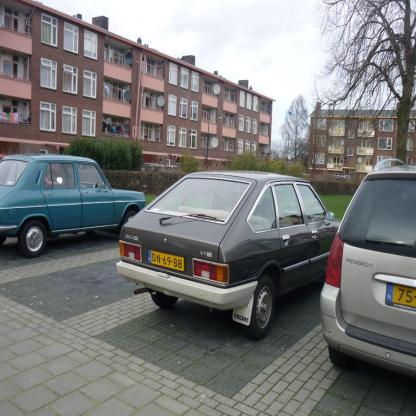Car: (117, 171, 344, 342), (319, 159, 416, 371), (1, 155, 147, 260)
